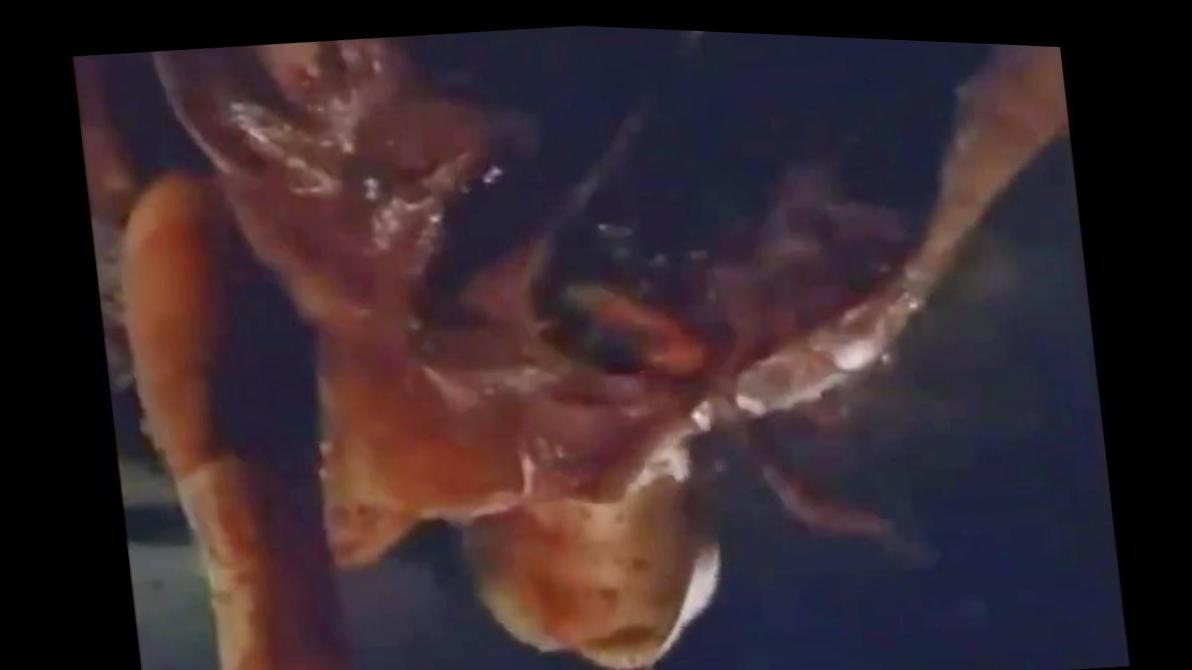Fire: (121, 20, 1063, 670)
